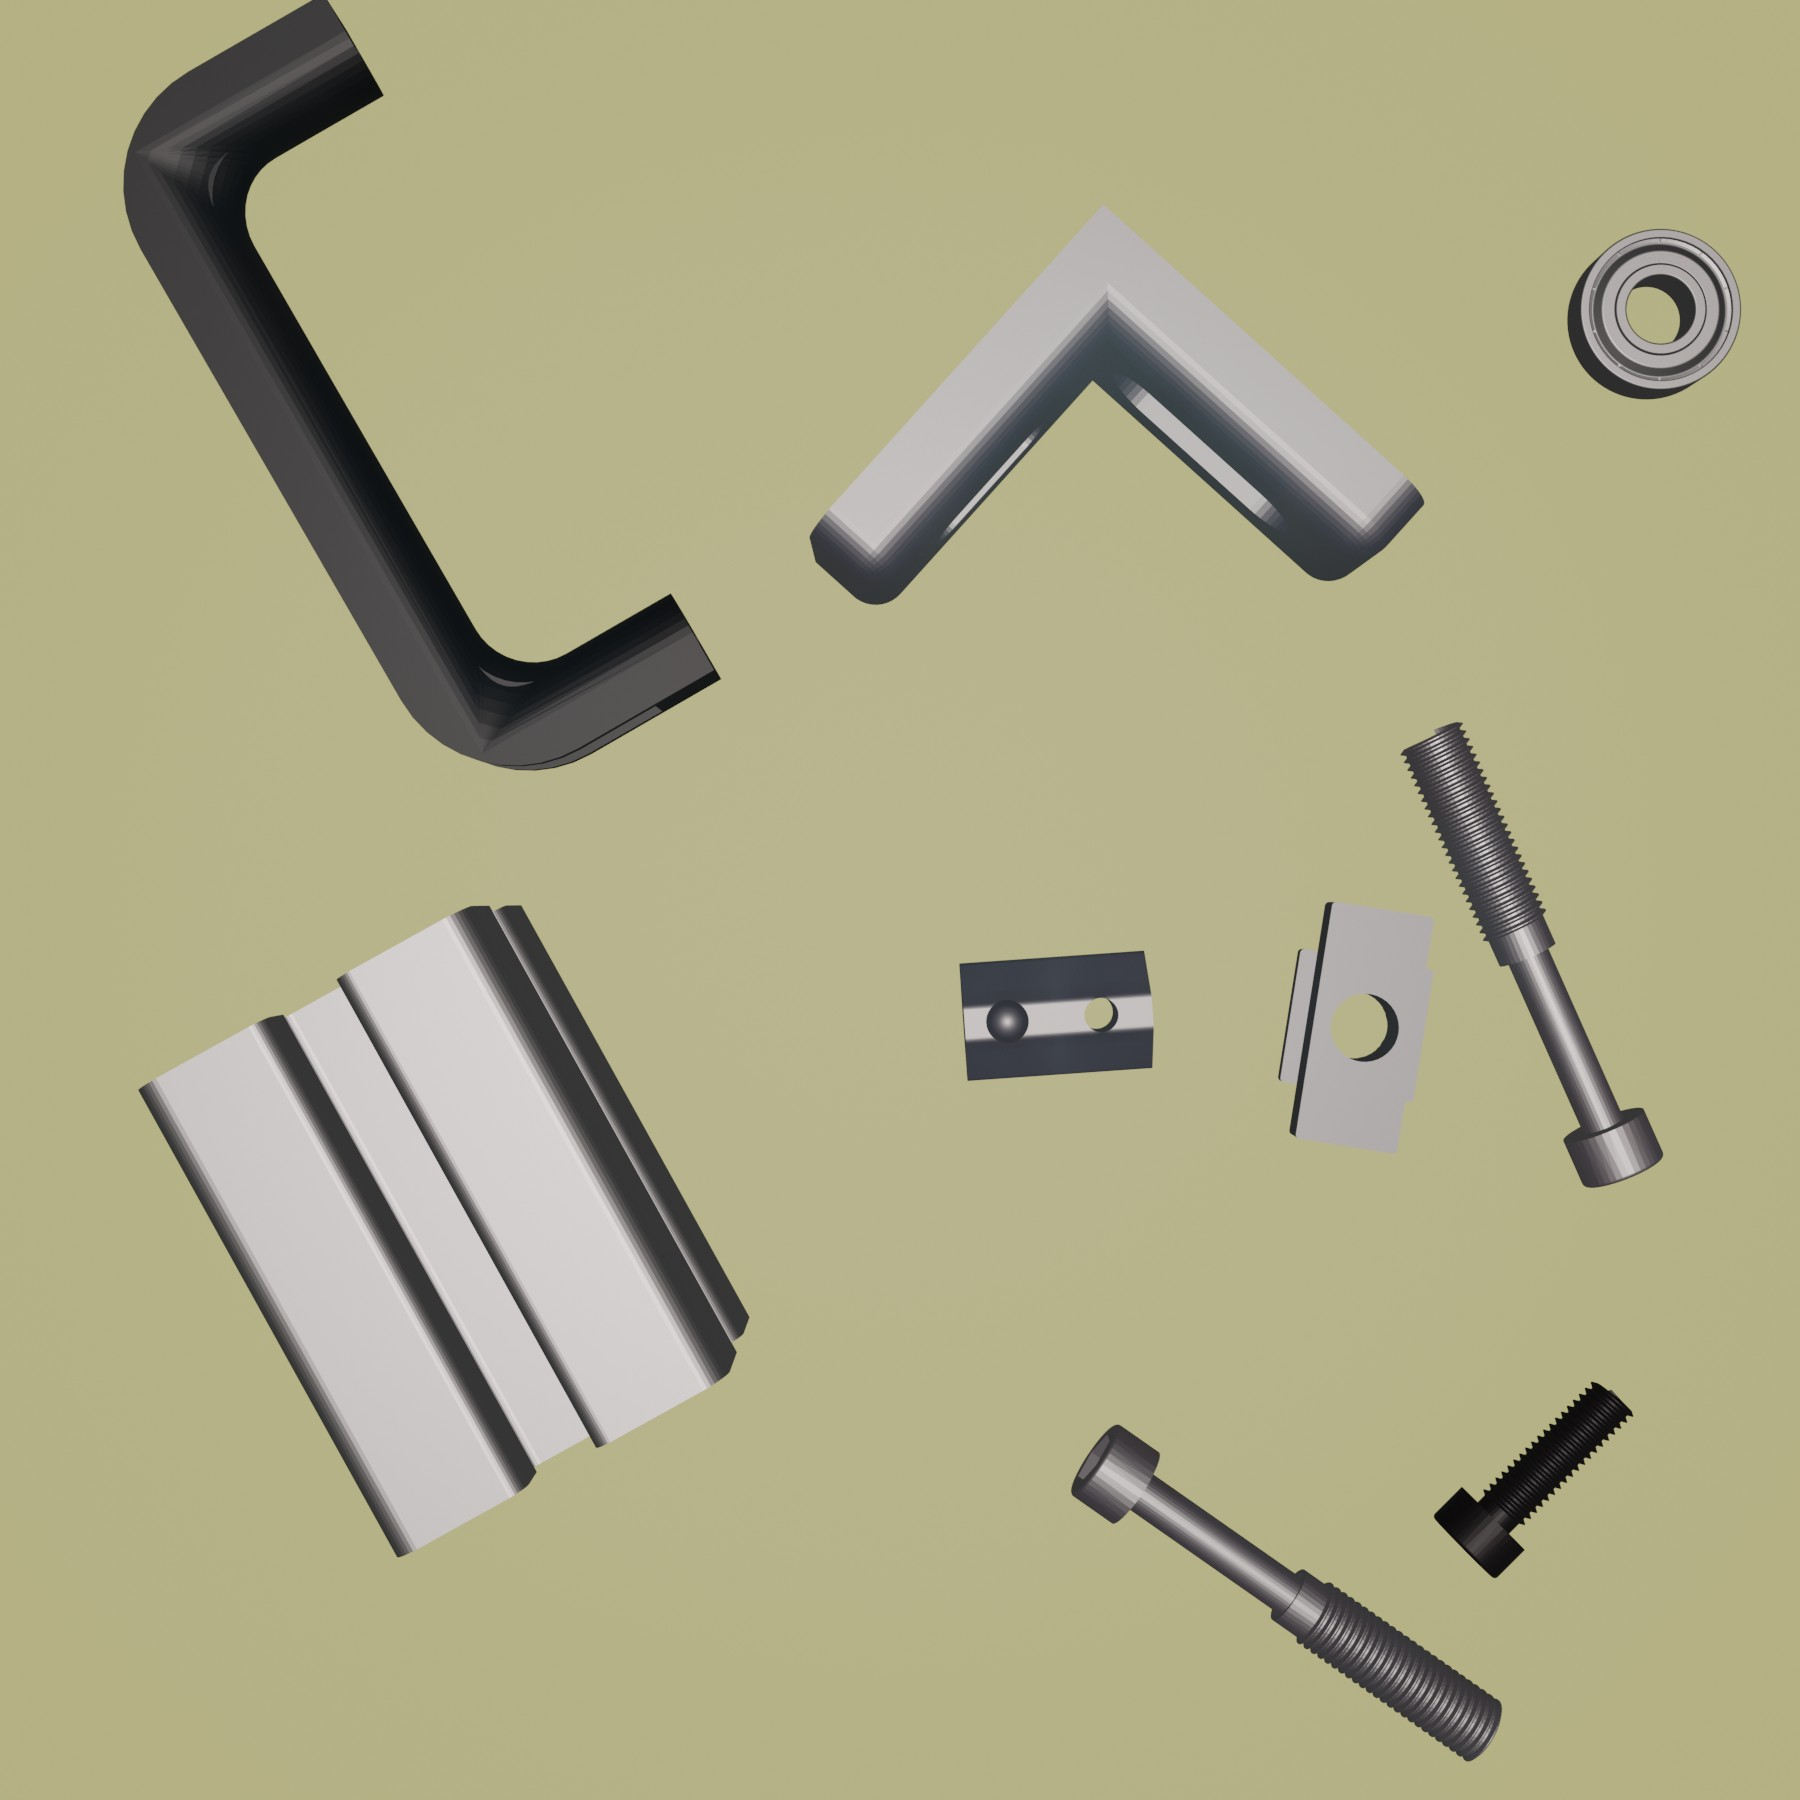Aluminium Extension: (137, 897, 752, 1558)
Ball Bearing: (1564, 223, 1744, 402)
Multiwinkel: (808, 191, 1427, 607)
Pull Handle: (120, 2, 724, 771)
Shoulder Socket Head Cap Screw: (1066, 1419, 1505, 1764), (1398, 719, 1663, 1188)
Socket Head Cap Screw: (1431, 1376, 1637, 1582)
T Nut Square: (1273, 897, 1439, 1159)
T Spring Nut: (956, 941, 1160, 1085)
